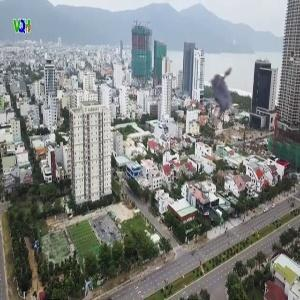drone: (177, 47, 271, 141)
